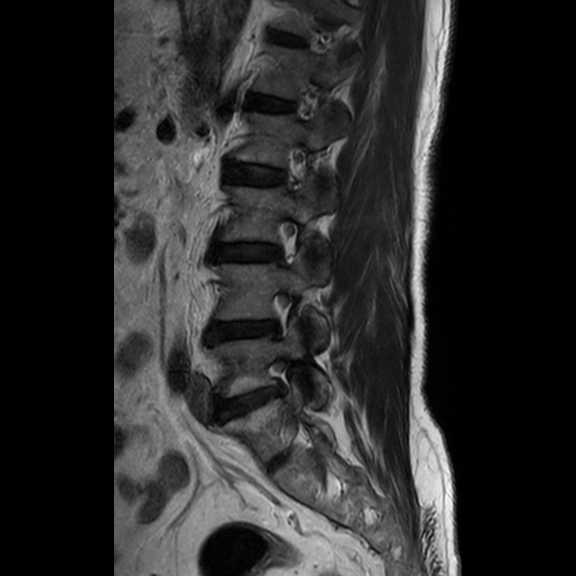LFS0: (264, 210, 308, 276), (268, 139, 312, 198)
LFS1: (256, 283, 303, 342)
LFS2: (256, 345, 297, 403)
